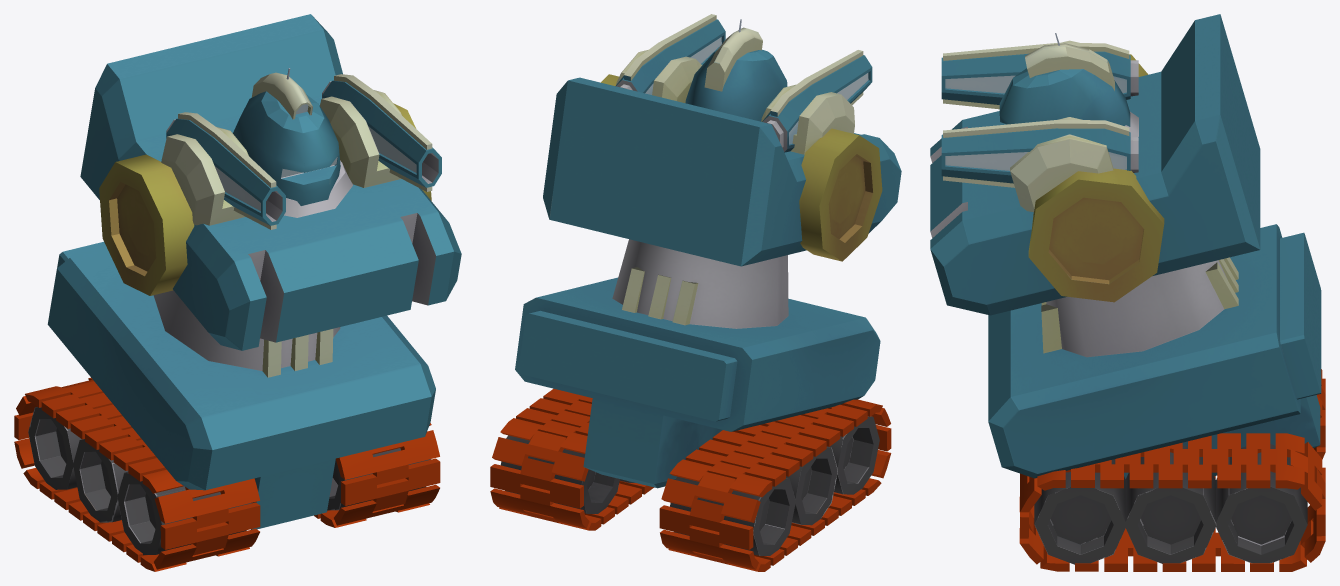
File: player_move2.obj
3 views of the same model, side by side, from view 1: azimuth 30°, elevation 25°; view 2: azimuth 150°, elevation 25°; view 3: azimuth 270°, elevation 25° (orthographic). The views are drawn at different scales.
Parts seen in each view (by area): view 1: Object004, Box038, Object012, Object011, Box042; view 2: Object004, Box038, Box042, Object011, Object012; view 3: Object004, Object011, Box042, Object012, Box038.
Boxes of the visible parts, x1=… form: Object004: x1=47, y1=14, x2=461, y2=529; Box038: x1=14, y1=377, x2=260, y2=571; Object012: x1=166, y1=74, x2=441, y2=229; Object011: x1=28, y1=407, x2=431, y2=554; Box042: x1=314, y1=423, x2=440, y2=527; Object004: x1=515, y1=27, x2=901, y2=488; Box038: x1=659, y1=399, x2=891, y2=571; Box042: x1=490, y1=388, x2=653, y2=530; Object011: x1=500, y1=416, x2=879, y2=555; Object012: x1=615, y1=14, x2=872, y2=152; Object004: x1=930, y1=14, x2=1321, y2=478; Object011: x1=1034, y1=444, x2=1307, y2=564; Box042: x1=1019, y1=433, x2=1325, y2=571; Object012: x1=941, y1=43, x2=1138, y2=187; Box038: x1=1214, y1=369, x2=1325, y2=478.
Bounding box in the file's own units: 110 × 179 × 135.
Materials: 3 (1 with a texture image).
